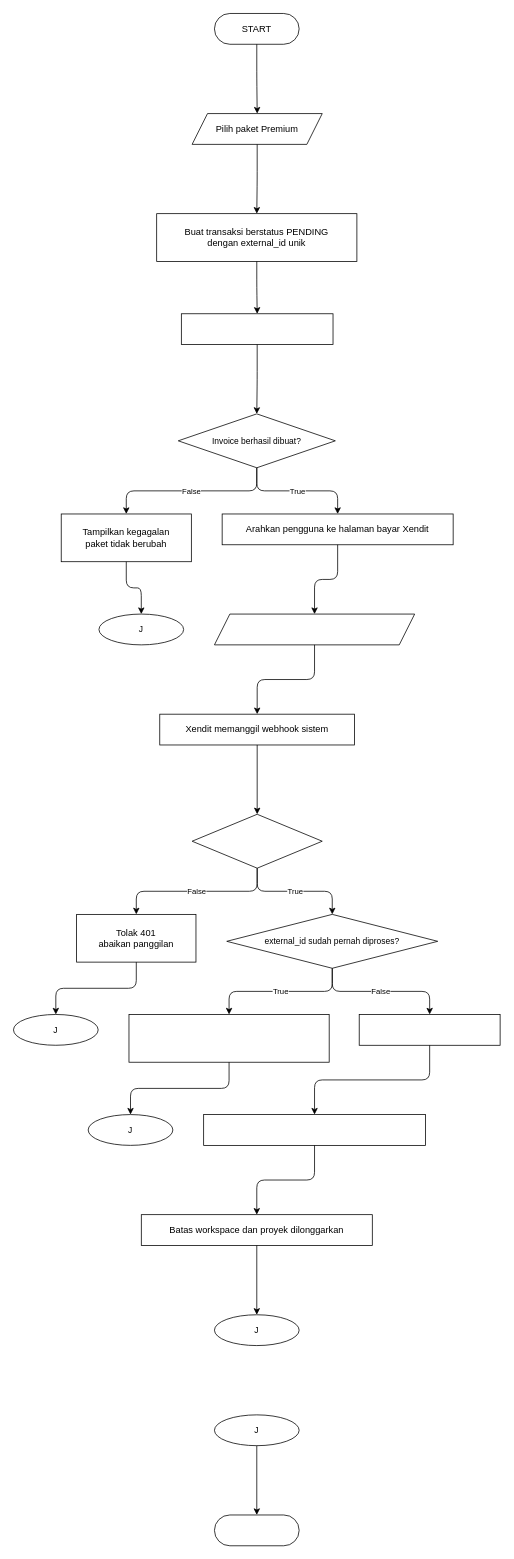
The diagram is 514 pixels wide and 1559 high, and some of its shapes have lost their labels. The centre of each missing label's shape, as x and y in pixels:
"Abaikan pembayaran hanya dihitung sekali" belongs at point (228, 1038).
"Aktifkan paket Premium untuk pemilik" belongs at point (314, 1129).
"END" belongs at point (256, 1530).
"Minta invoice ke Xendit" belongs at point (257, 329).
"Pengguna membayar di sisi Xendit" belongs at point (314, 629).
"Tandai transaksi PAID" belongs at point (429, 1029).
"Token callback sah?" belongs at point (256, 841).
